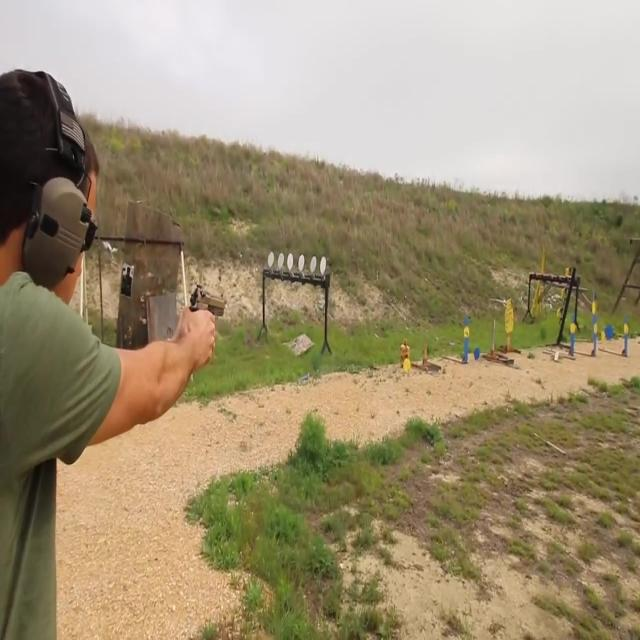Weapon: (164, 267, 238, 356)
